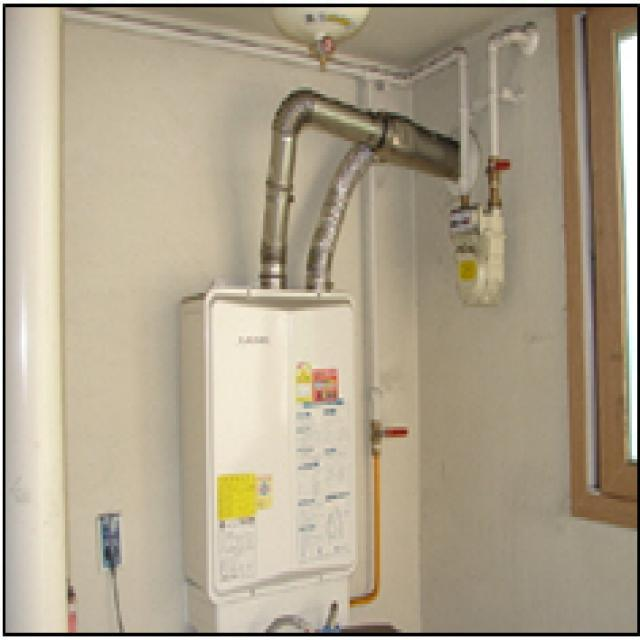Boiler: (151, 263, 413, 640)
